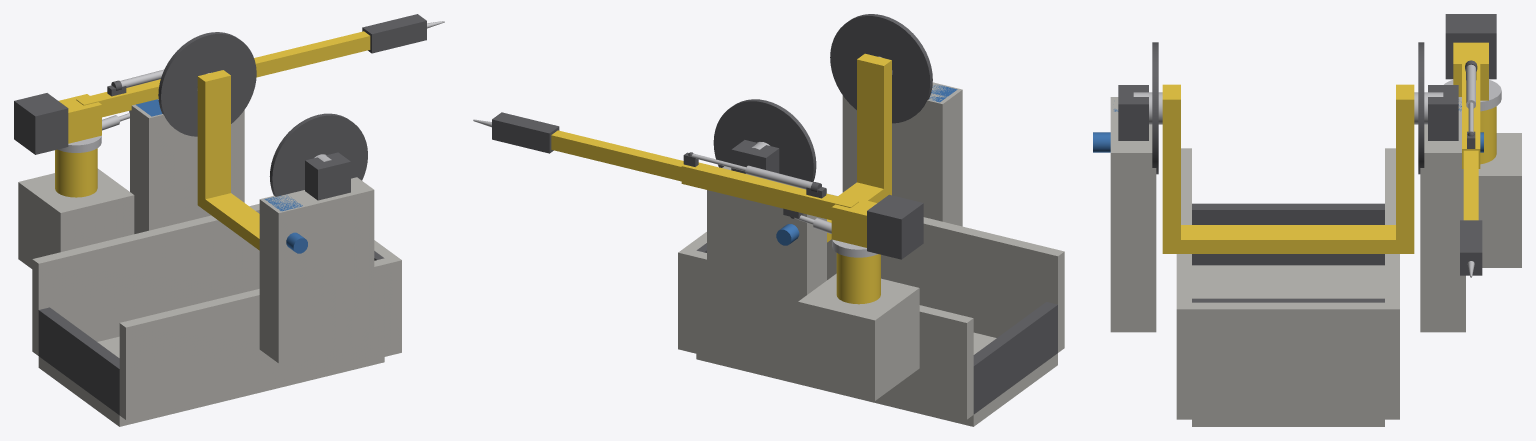
File: SM_LadleSkullingStation.fbx
3 renders of one model, left to right at view 1: azimuth 30°, elevation 25°; view 2: azimuth 150°, elevation 25°; view 3: azimuth 270°, elevation 25°, orthographic. The views are drawn at different scales.
Visible parts, largest first — view 1: LSS_Base, LSS_Cradle, LSS_BreakerPedestal, LSS_BreakerTurret, LSS_BreakerStick, LSS_BreakerHammer, LSS_BreakerBoom, LSS_StickCyl_Barrel; view 2: LSS_Base, LSS_Cradle, LSS_BreakerPedestal, LSS_BreakerTurret, LSS_BreakerBoom, LSS_BreakerStick, LSS_BreakerHammer, LSS_StickCyl_Barrel; view 3: LSS_Base, LSS_Cradle, LSS_BreakerPedestal, LSS_BreakerTurret, LSS_BreakerHammer, LSS_BreakerBoom, LSS_BreakerStick, LSS_StickCyl_Barrel.
Boxes of the visible parts, x1=… form: LSS_Base: x1=32, y1=99, x2=401, y2=426; LSS_Cradle: x1=158, y1=32, x2=367, y2=250; LSS_BreakerPedestal: x1=18, y1=148, x2=134, y2=268; LSS_BreakerTurret: x1=14, y1=93, x2=101, y2=154; LSS_BreakerStick: x1=254, y1=31, x2=370, y2=77; LSS_BreakerHammer: x1=362, y1=14, x2=444, y2=53; LSS_BreakerBoom: x1=76, y1=79, x2=160, y2=117; LSS_StickCyl_Barrel: x1=111, y1=69, x2=164, y2=90; LSS_Base: x1=678, y1=82, x2=1064, y2=426; LSS_Cradle: x1=713, y1=14, x2=932, y2=242; LSS_BreakerPedestal: x1=798, y1=253, x2=919, y2=400; LSS_BreakerTurret: x1=831, y1=194, x2=923, y2=259; LSS_BreakerBoom: x1=681, y1=162, x2=858, y2=220; LSS_BreakerStick: x1=551, y1=130, x2=698, y2=181; LSS_BreakerHammer: x1=473, y1=112, x2=559, y2=153; LSS_StickCyl_Barrel: x1=745, y1=165, x2=821, y2=192; LSS_Base: x1=1093, y1=85, x2=1483, y2=426; LSS_Cradle: x1=1133, y1=42, x2=1443, y2=253; LSS_BreakerPedestal: x1=1478, y1=106, x2=1521, y2=267; LSS_BreakerTurret: x1=1444, y1=14, x2=1501, y2=111; LSS_BreakerHammer: x1=1460, y1=220, x2=1482, y2=277; LSS_BreakerBoom: x1=1462, y1=54, x2=1480, y2=168; LSS_BreakerStick: x1=1463, y1=131, x2=1478, y2=220; LSS_StickCyl_Barrel: x1=1465, y1=60, x2=1477, y2=108.
Size of the model in its own units: 1200 by 720 by 845.
